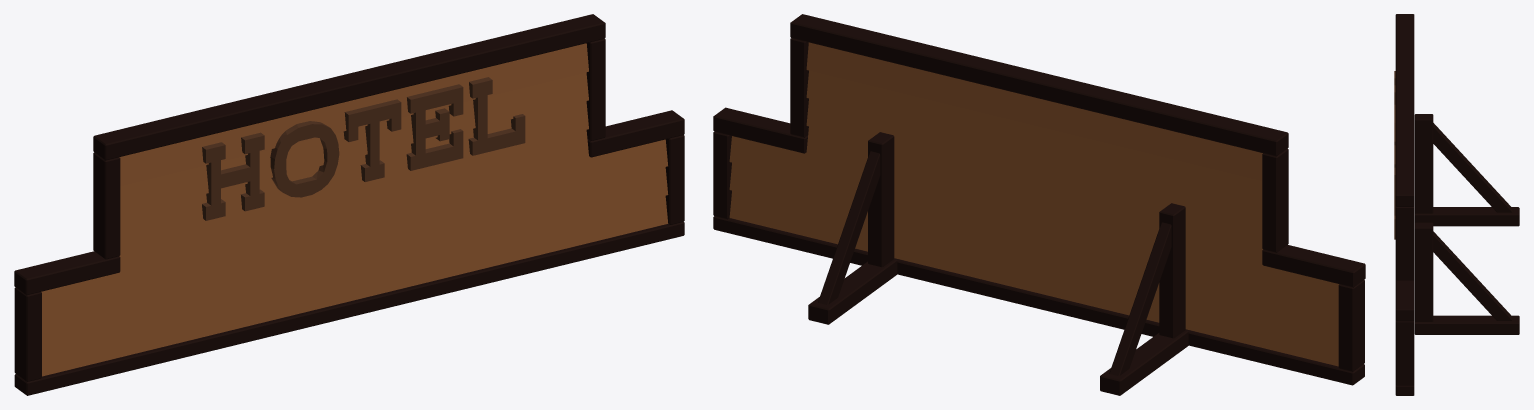
The model's file is ww_hotel_sign_c.glb.
3 views of the same model, side by side, from view 1: azimuth 30°, elevation 25°; view 2: azimuth 150°, elevation 25°; view 3: azimuth 270°, elevation 25° (orthographic). The views are drawn at different scales.
Visible parts, largest first — view 1: Hotel_Sign_C; view 2: Hotel_Sign_C; view 3: Hotel_Sign_C.
Part boxes in pixels (bbox=[...]): Hotel_Sign_C: bbox=[14, 14, 684, 395]; Hotel_Sign_C: bbox=[713, 14, 1365, 395]; Hotel_Sign_C: bbox=[1394, 14, 1519, 395].
Size of the model in its own units: 10.56 by 3.56 by 2.34.
